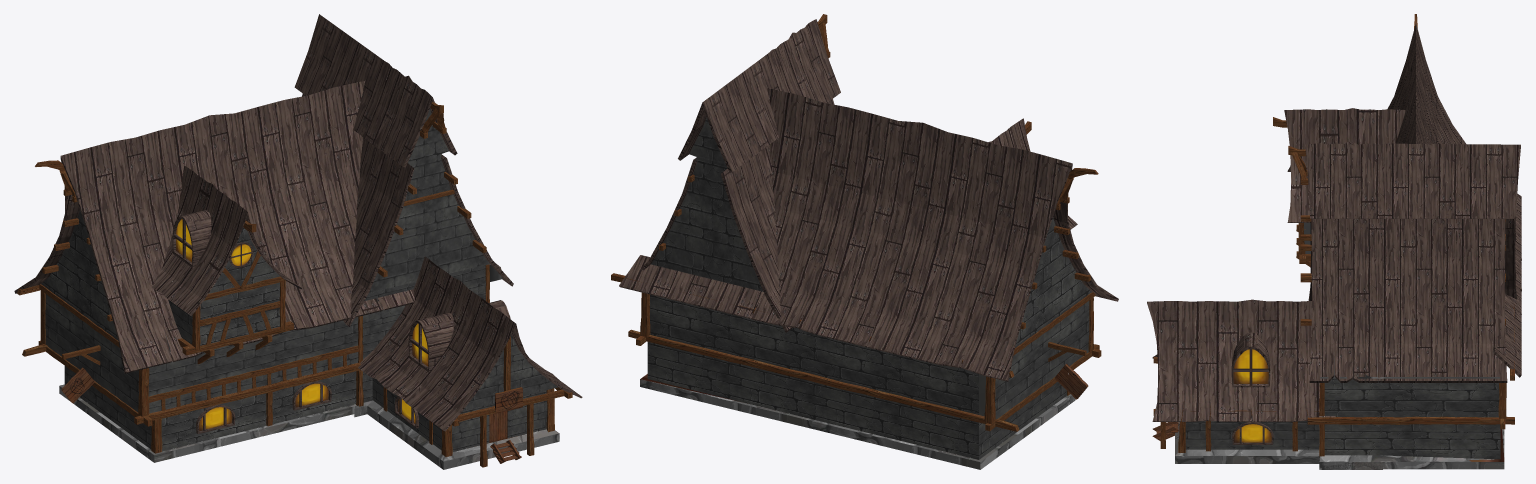
Rendered from haunted.glb.
The picture shows the model from 3 angles, left to right: view 1: azimuth 30°, elevation 25°; view 2: azimuth 150°, elevation 25°; view 3: azimuth 270°, elevation 25°; orthographic projection. The views are drawn at different scales.
Parts seen in each view (by area): view 1: Plane.000_9, Plane.000_1, Plane.000_3, Plane.000_2, Plane.000_6, Plane.000_4, Plane.000_5, Plane.000_8; view 2: Plane.000_9, Plane.000_1, Plane.000_3, Plane.000_2, Plane.000_6, Plane.000_5; view 3: Plane.000_3, Plane.000_1, Plane.000_9, Plane.000_2, Plane.000_6, Plane.000_4, Plane.000_8.
Boxes of the visible parts, x1,y1,x2,y2 form: Plane.000_9: (14,81,414,373); Plane.000_1: (41,109,557,451); Plane.000_3: (152,14,582,433); Plane.000_2: (17,102,572,467); Plane.000_6: (59,384,559,469); Plane.000_4: (175,219,428,430); Plane.000_5: (61,367,522,413); Plane.000_8: (487,411,521,463); Plane.000_9: (619,88,1118,381); Plane.000_1: (647,95,1092,459); Plane.000_3: (640,19,1077,332); Plane.000_2: (611,14,1101,431); Plane.000_6: (640,379,1075,469); Plane.000_5: (1055,364,1088,399); Plane.000_3: (1147,108,1520,444); Plane.000_1: (1185,223,1500,459); Plane.000_9: (1310,23,1521,377); Plane.000_2: (1153,14,1514,456); Plane.000_6: (1175,422,1504,469); Plane.000_4: (1233,349,1271,442); Plane.000_8: (1152,422,1504,461).
Bounding box in the file's own units: 6.66 × 4.59 × 5.25.
8 materials, 7 textured.
